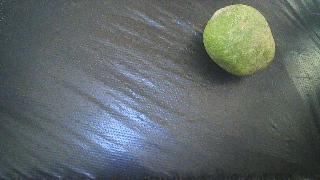DESECHO: (203, 4, 275, 76)
